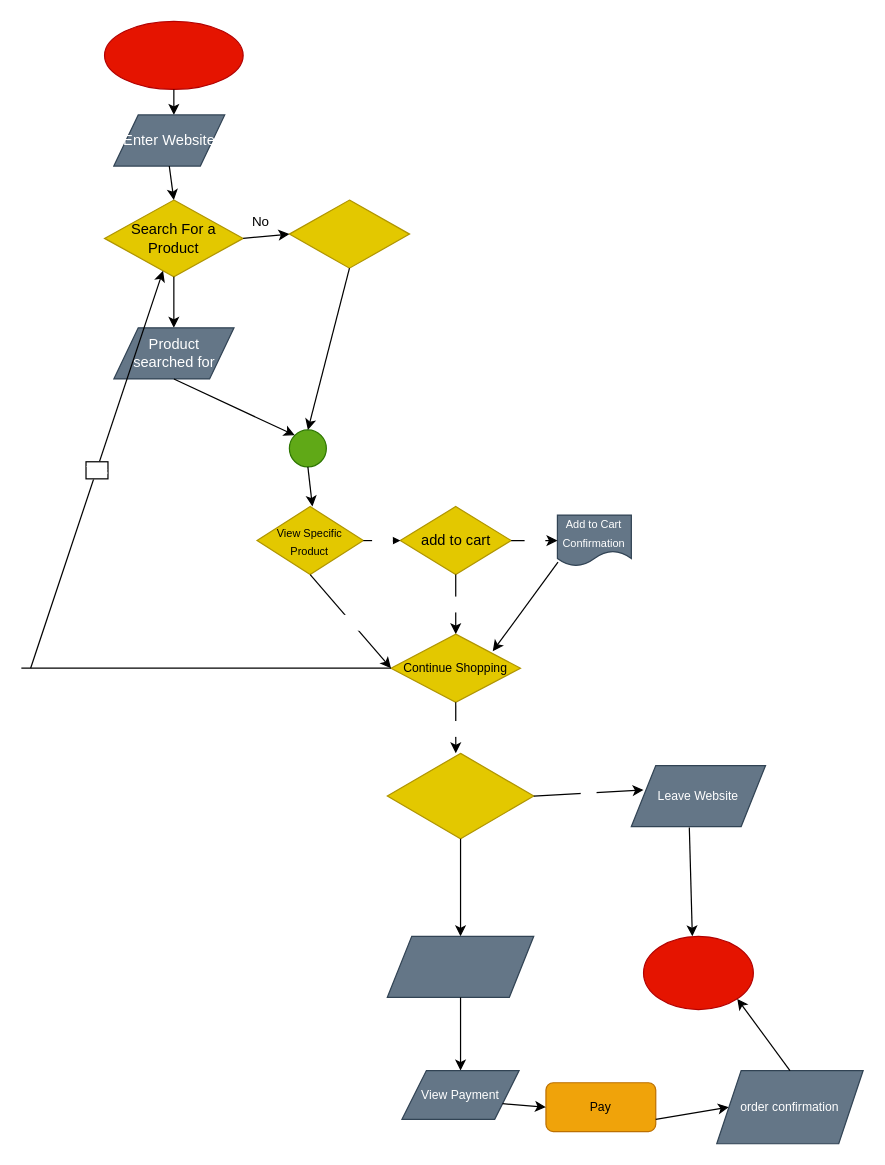
Some shapes in this 885 by 1165 pixel diagram are drawn without their labels. The box of each missing label's shape, as (x1, y1, x2, y2) in pixels:
Checkout: (386, 752, 534, 839)
End: (642, 935, 753, 1010)
Explore Homepage: (288, 199, 410, 268)
Start: (103, 20, 243, 89)
View Cart: (386, 935, 534, 997)
